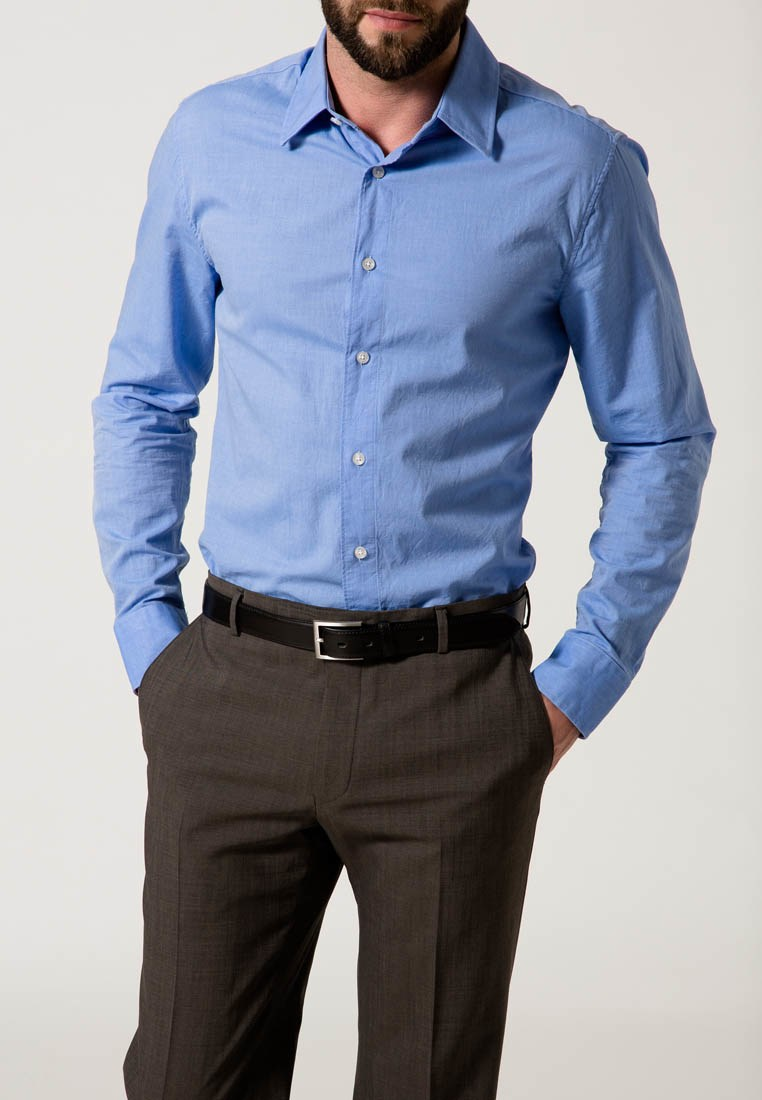F_belt: (182, 576, 533, 673)
F_dress pants: (123, 590, 555, 1100)
F_shirt: (92, 50, 703, 690)
